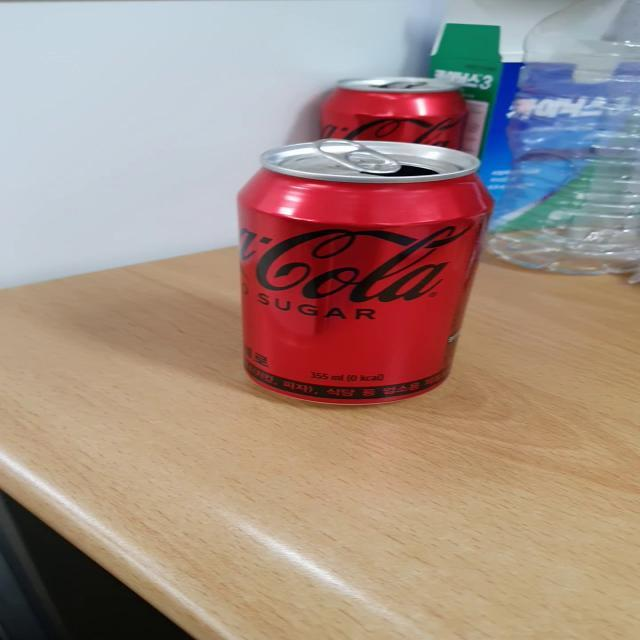coca-cola: (225, 130, 500, 420)
